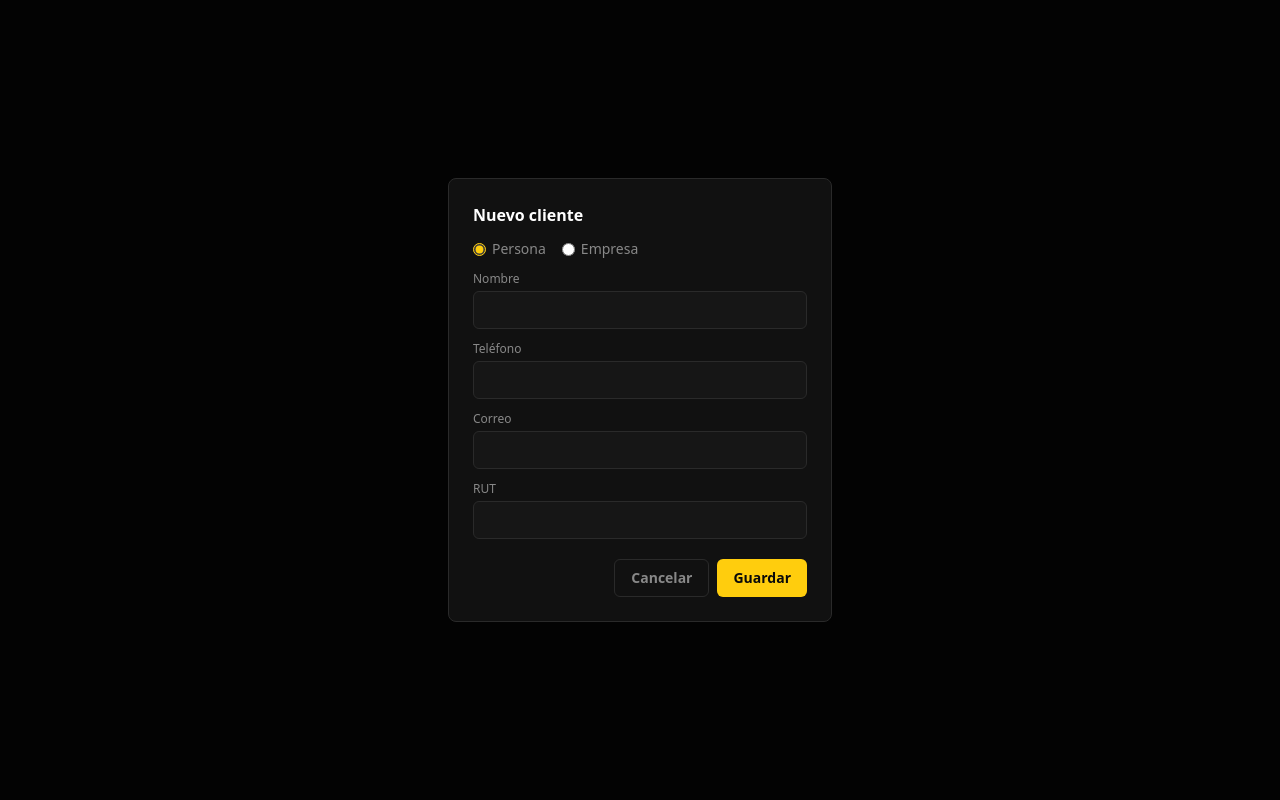
Test: ClientFormModal › alta: sin nombre ni empresa, muestra error de validación
In the field labelled "Teléfono": (640, 380) [473, 361, 807, 399], type "+56911111111"
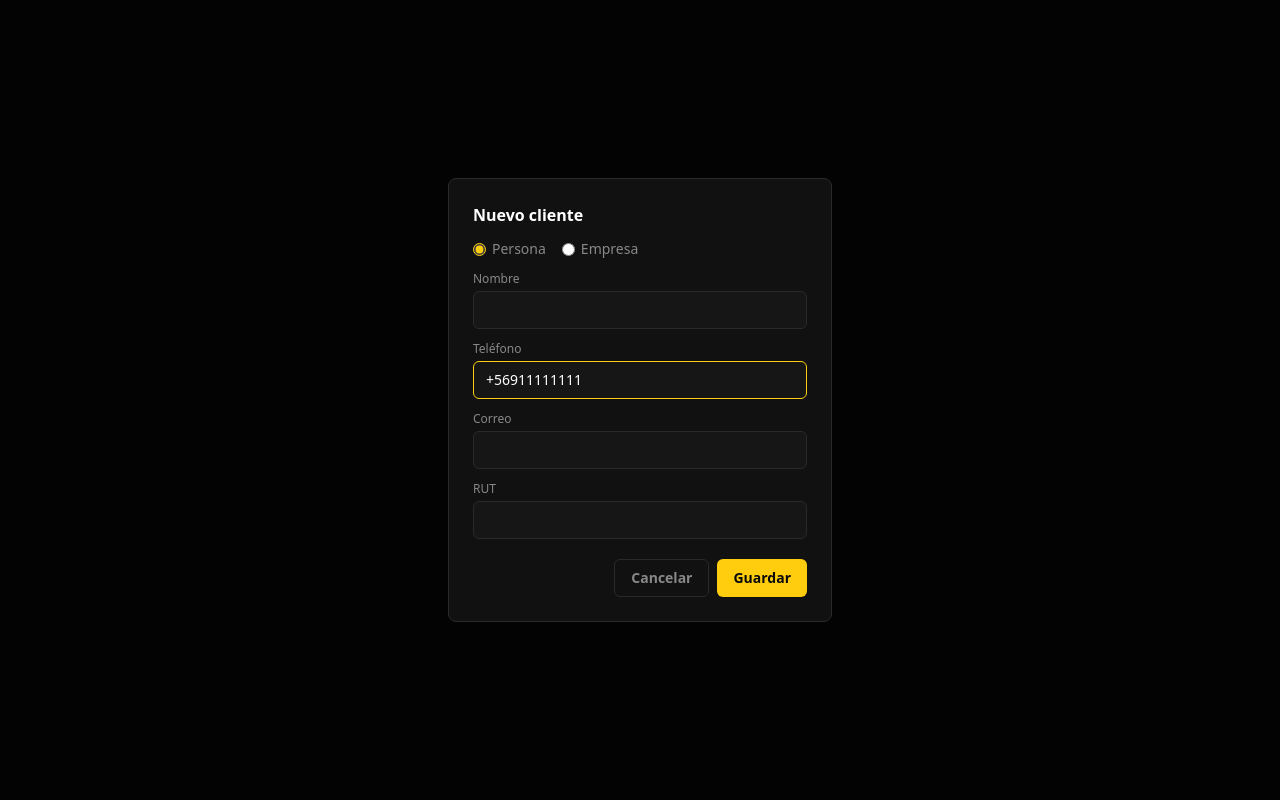
Click the button "Guardar": (762, 578) [718, 559, 807, 597]
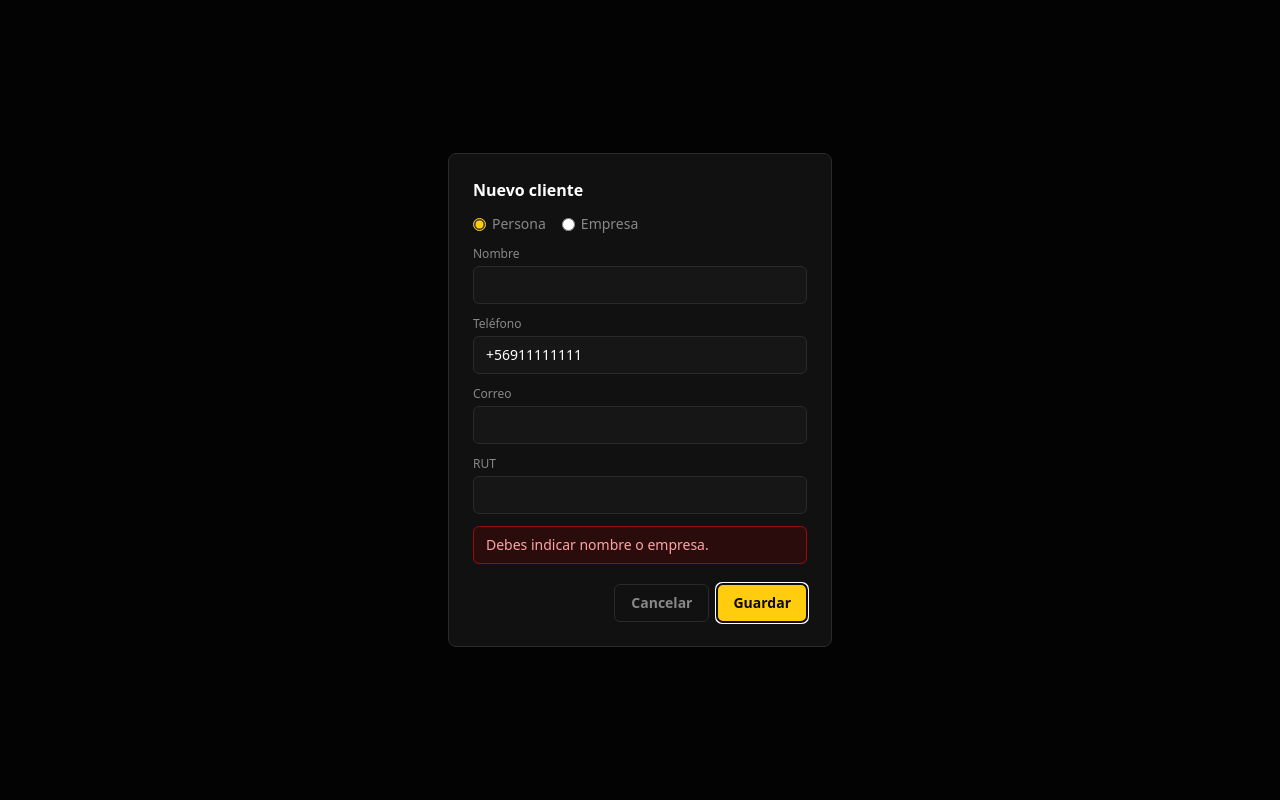
Expected: the text "Debes indicar nombre o empresa." is shown, [473, 526, 807, 564]
